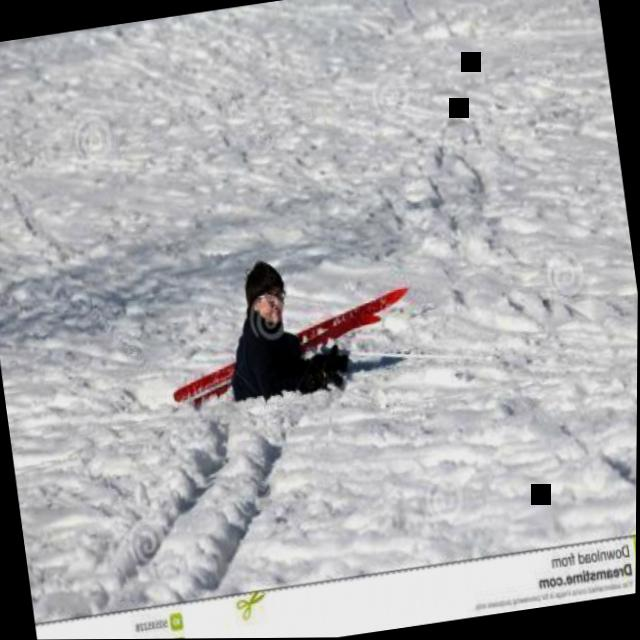Fall-Detected: (198, 231, 371, 414)
